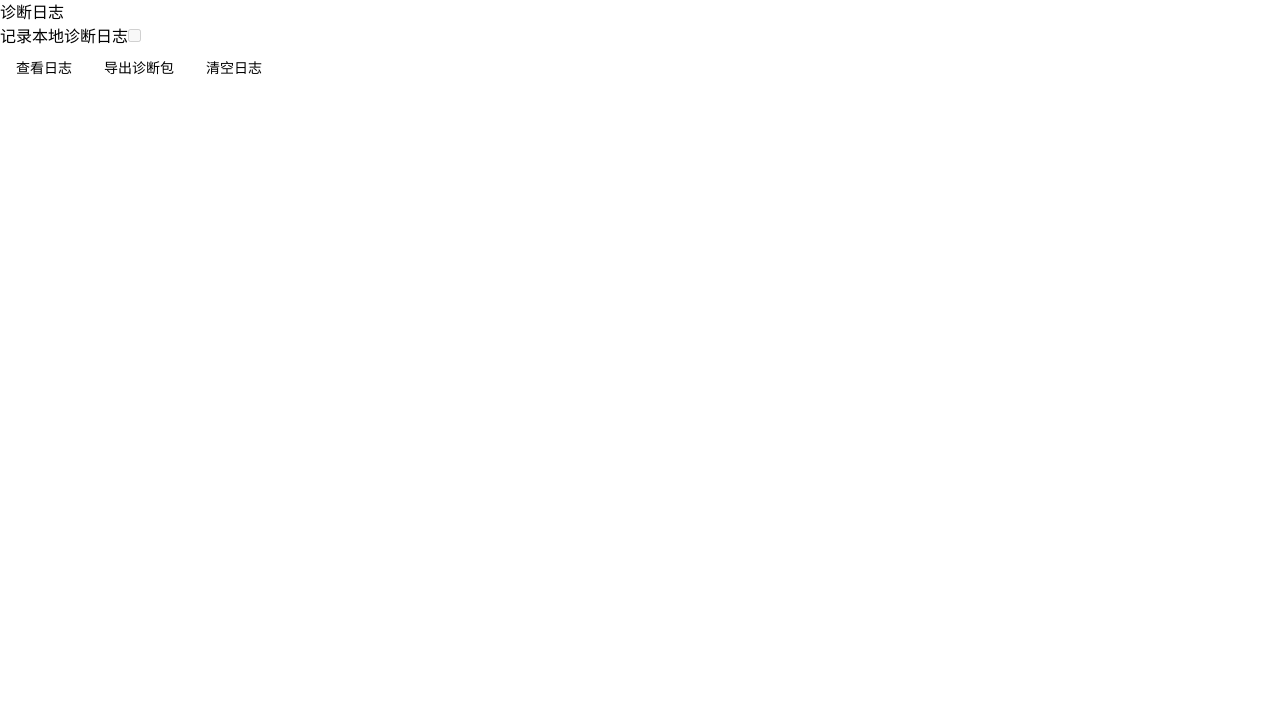
Test: opens existing logs with recording disabled and refreshes after a read error
Click the button "查看日志" at (44, 68), box [0,48,88,88]
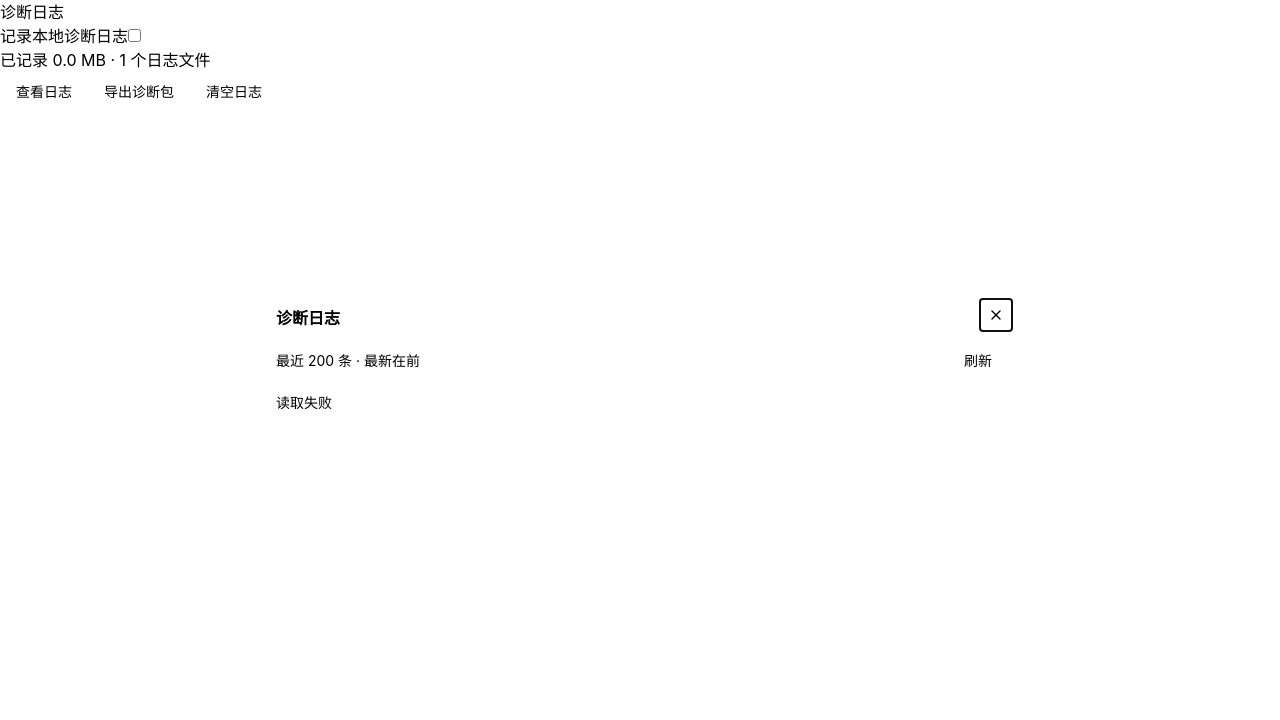
Expected: the dialog "诊断日志" is shown, [256,287,1024,433]
Expected: the message reads "读取失败", [276,394,332,411]
Click the button "刷新" at (978, 361), box [952,345,1004,377]
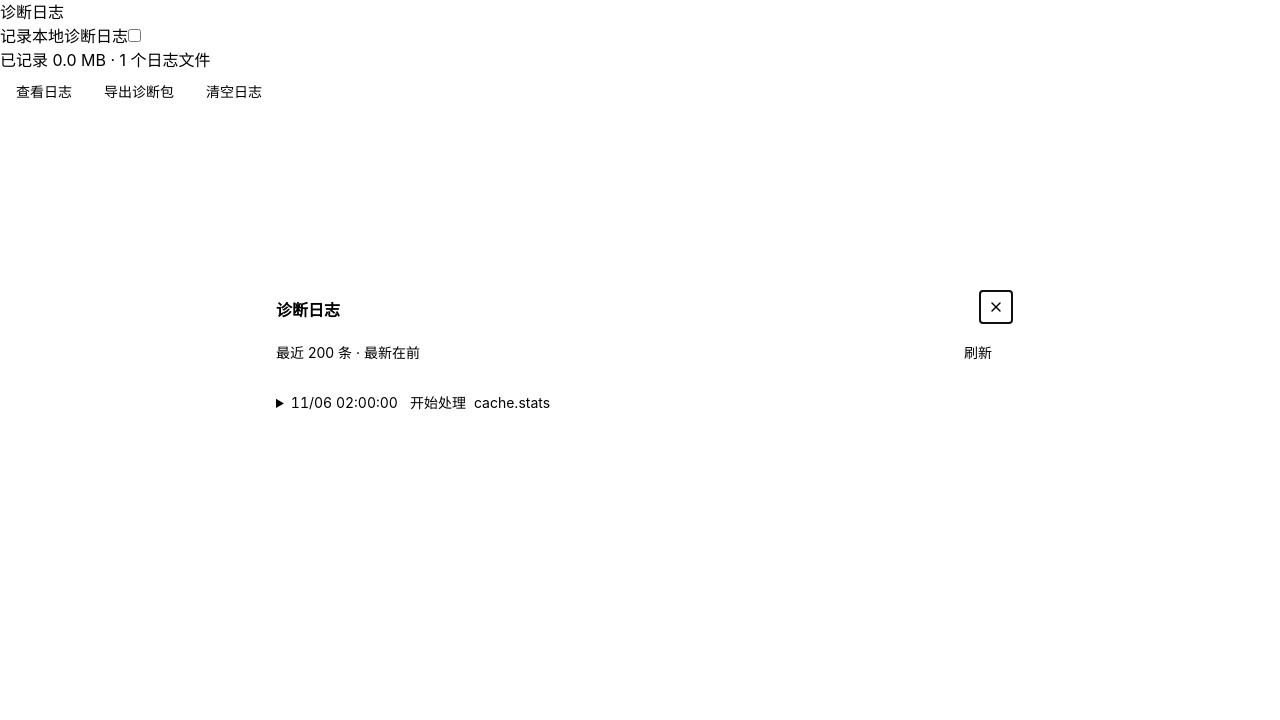
Click the heading "开始处理" at (420, 402), box [291,394,550,411]
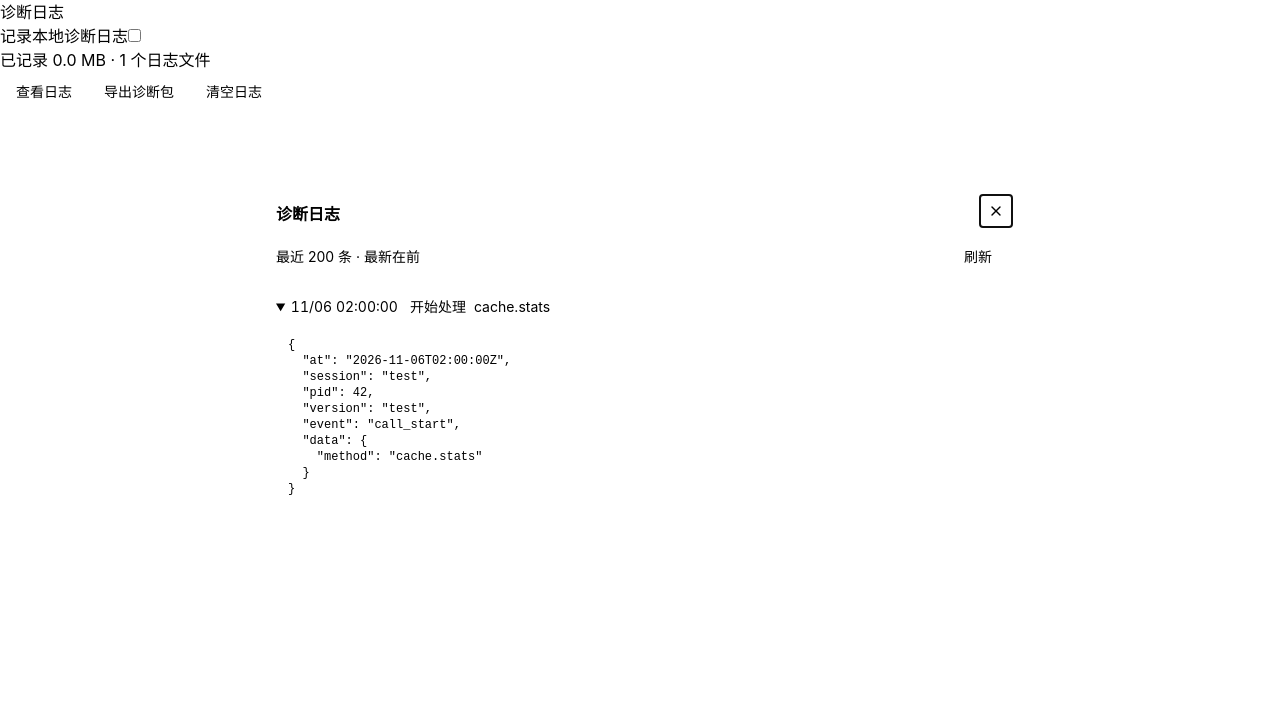
Expected: the text "\"method\": \"cache.stats\"" is shown, [288,338,511,496]
